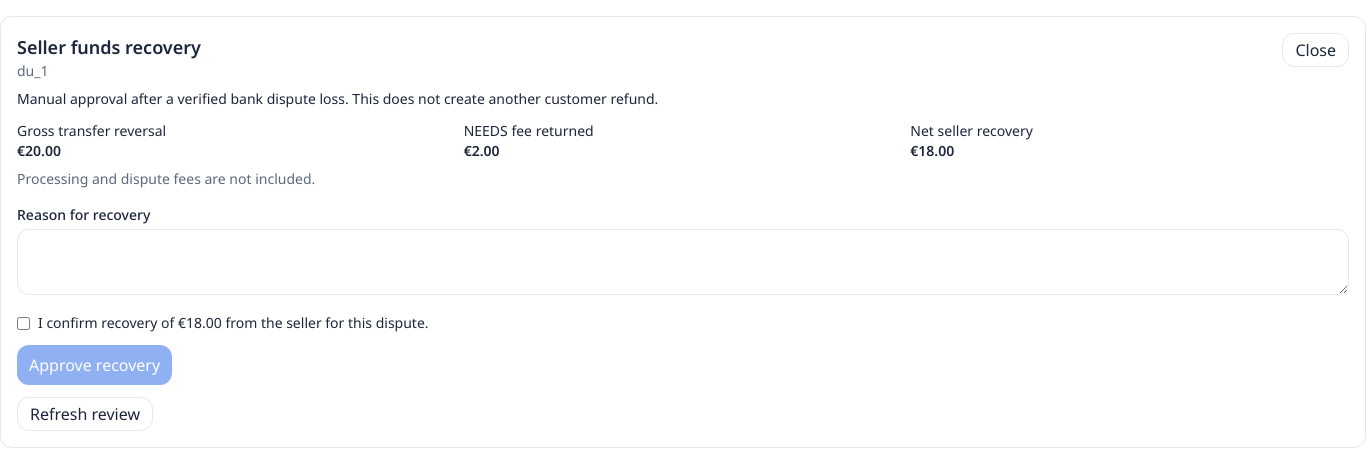
Test: admin-approved seller recovery › consumes an exact manual-review HTTP409 outcome and removes stale approval controls
Check: the text "€18.00" is shown, box [910, 141, 954, 160]
Type "Confirmed bank loss" into the text box labelled "Reason for recovery".
click(683, 262); type("Confirmed bank loss")  # box [17, 229, 1349, 295]
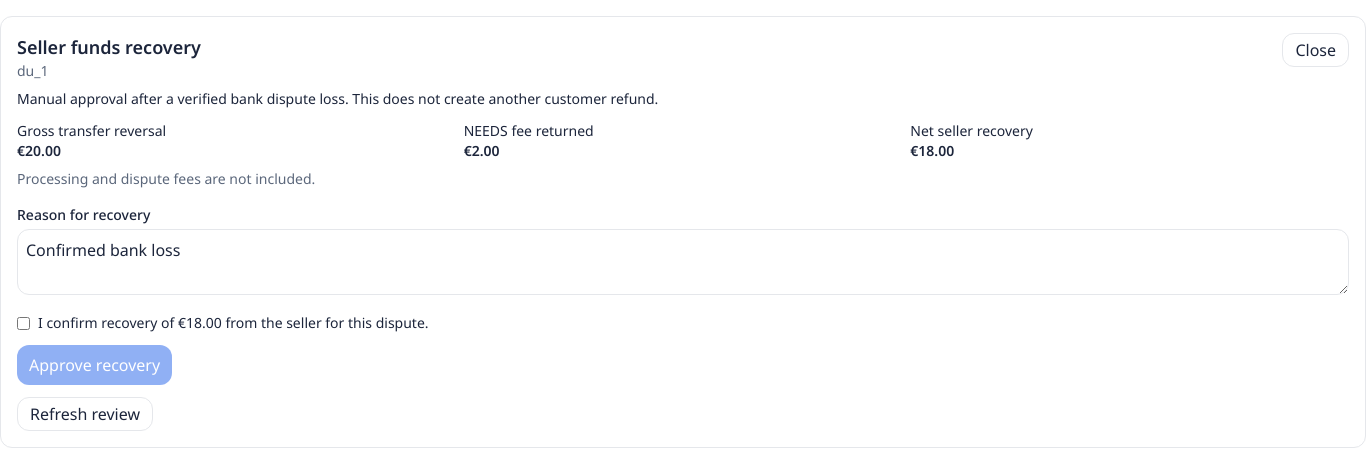
Click the checkbox.
click(24, 324)  # box [17, 317, 30, 330]
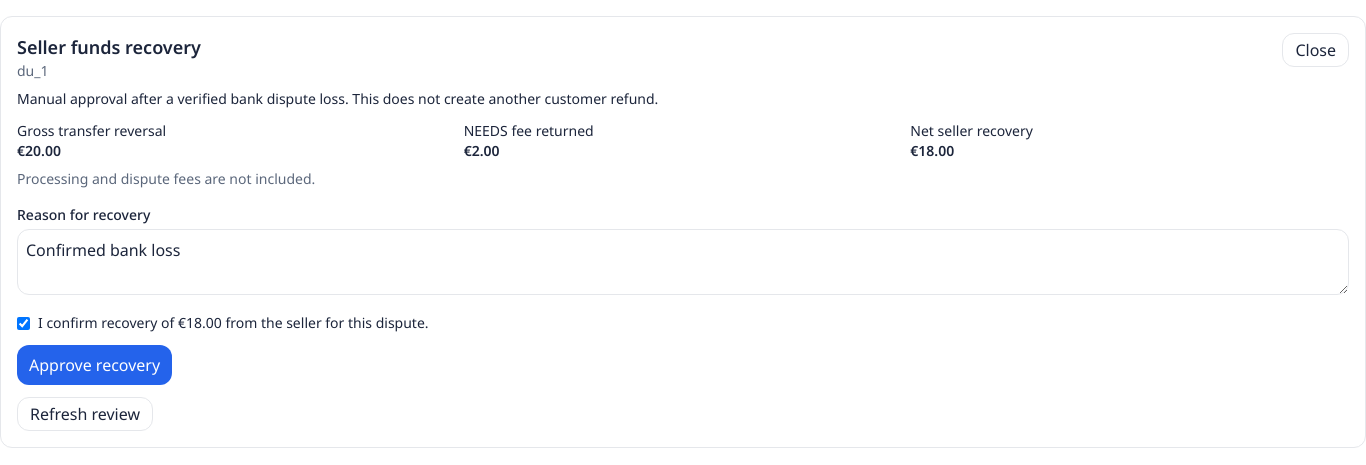
Click the button "Approve recovery".
click(95, 365)  # box [17, 345, 172, 385]
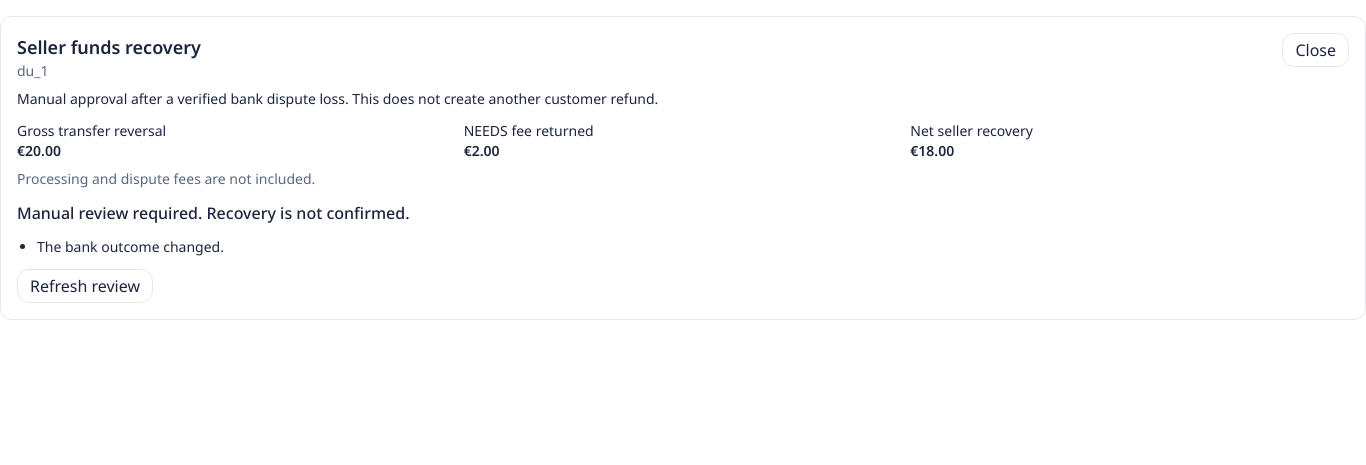
Check: the message reads "Manual review required. Recovery is not confirmed.", box [17, 202, 410, 224]
Check: the list item "The bank outcome changed." is shown, box [37, 237, 224, 256]
Check: the button "Approve recovery" is gone
